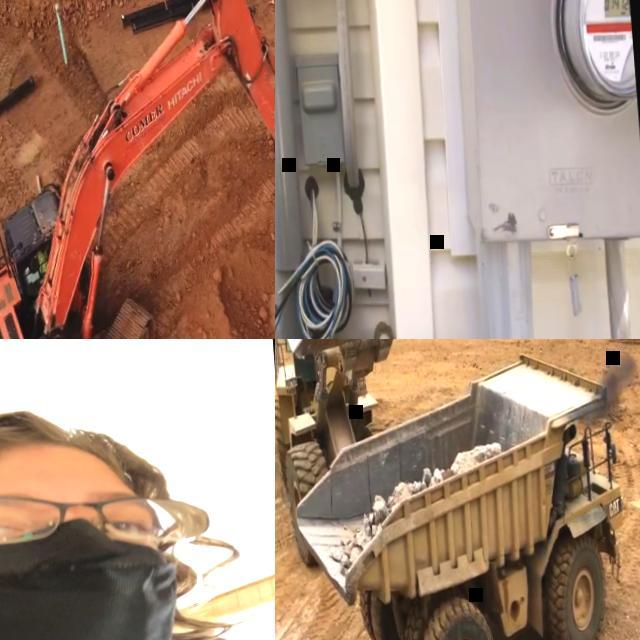vest: (37, 252, 48, 274)
